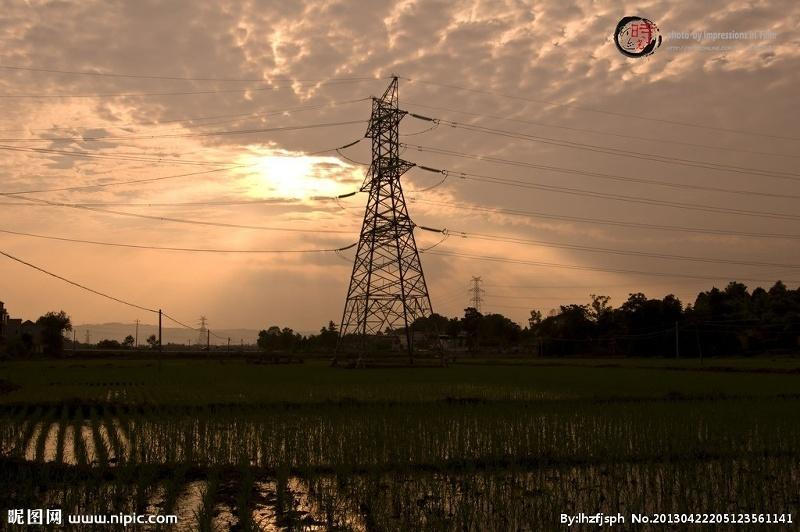power_tower: (335, 74, 447, 365), (464, 272, 486, 318), (194, 312, 210, 347), (82, 328, 92, 344)
